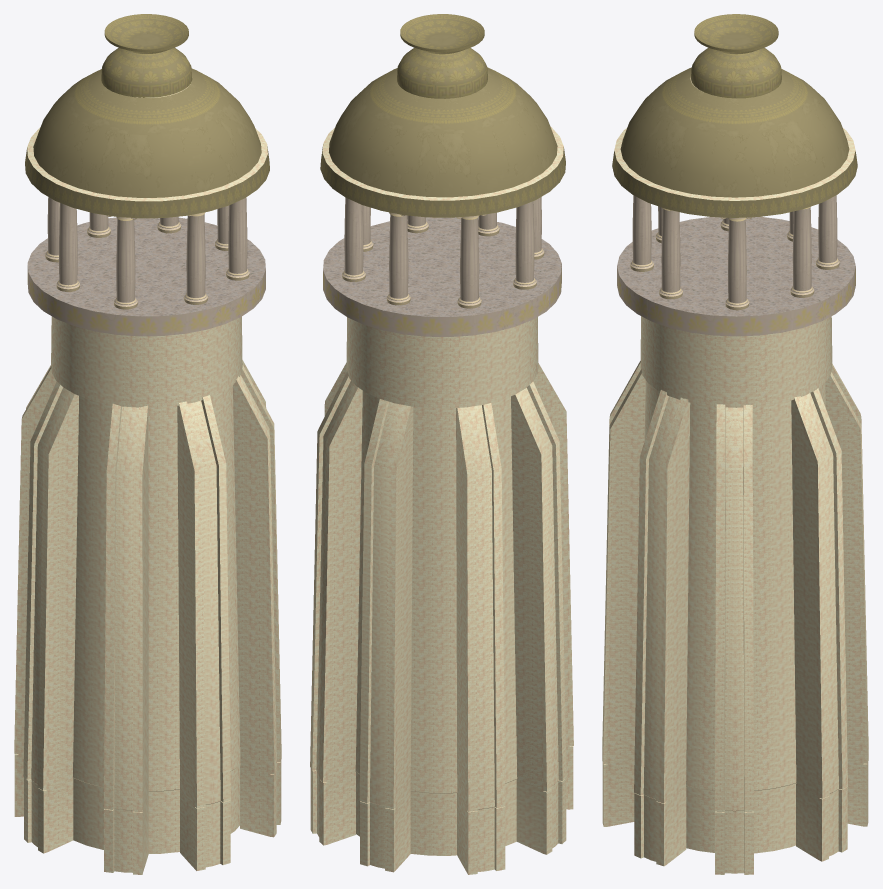
Rendered from SM_fire_tower_03.glb.
3 renders of one model, left to right at view 1: azimuth 30°, elevation 25°; view 2: azimuth 150°, elevation 25°; view 3: azimuth 270°, elevation 25°, orthographic.
Parts seen in each view (by area): view 1: SM_fire_tower_03; view 2: SM_fire_tower_03; view 3: SM_fire_tower_03.
Part boxes in pixels (x1,y1,x2,y2): SM_fire_tower_03: (14,14,281,874); SM_fire_tower_03: (310,14,573,874); SM_fire_tower_03: (602,14,868,874).
Bounding box in the file's own units: 59.88 × 195 × 59.88.
Materials: 4 (4 with a texture image).
